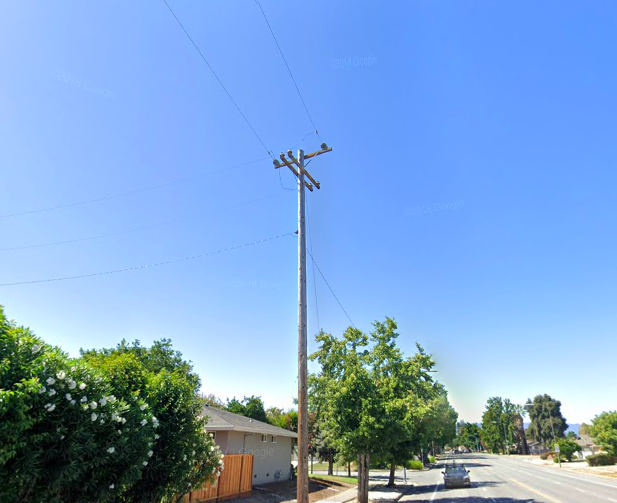utility_pole: (263, 135, 336, 197)
